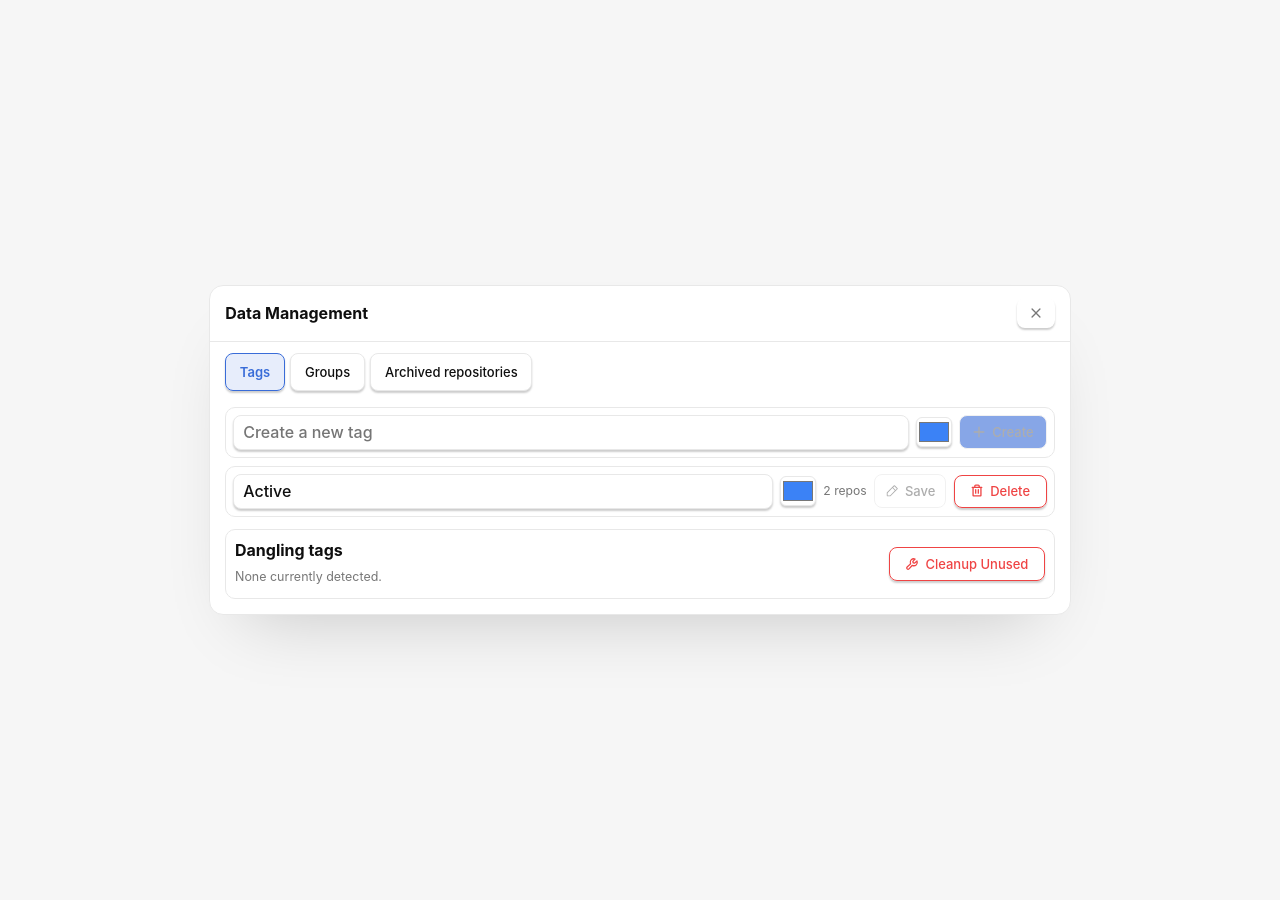
Test: SettingsManagementModal › exposes accessible tabs, panels, and color controls
Expected: the dialog "Data Management" is shown, [209,284,1071,615]
Expected: the button named "Close management modal" is shown, [1017,298,1055,328]
Click the tab "Groups" at (328, 372), box [290,353,365,391]
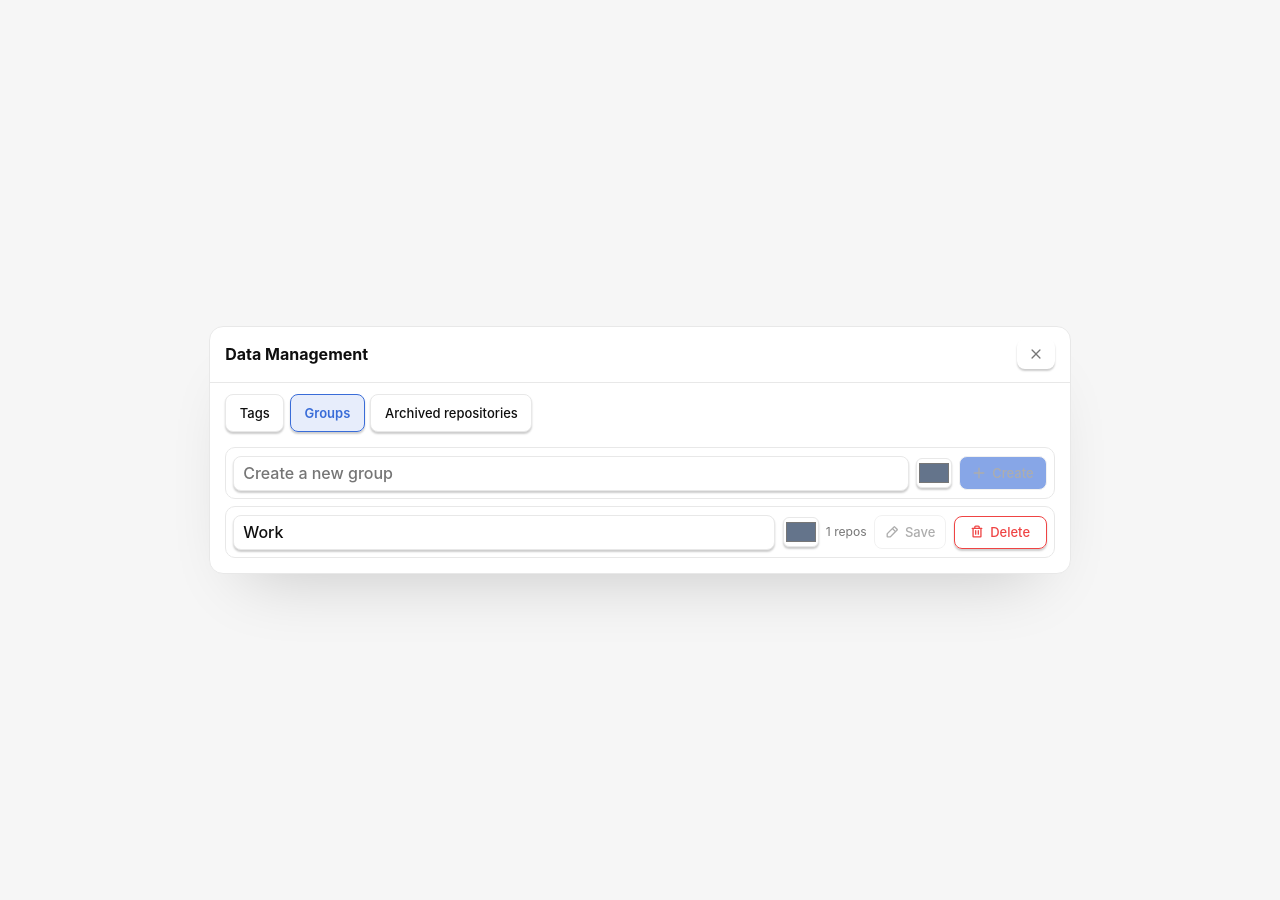
Result: the colour field named "Choose color for new group" is shown at [916,458,952,488]
Result: the colour field named "Choose color for group Work" is shown at [783,517,819,547]
